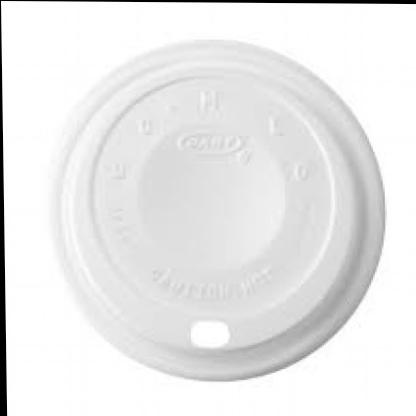trash: (59, 41, 384, 379)
